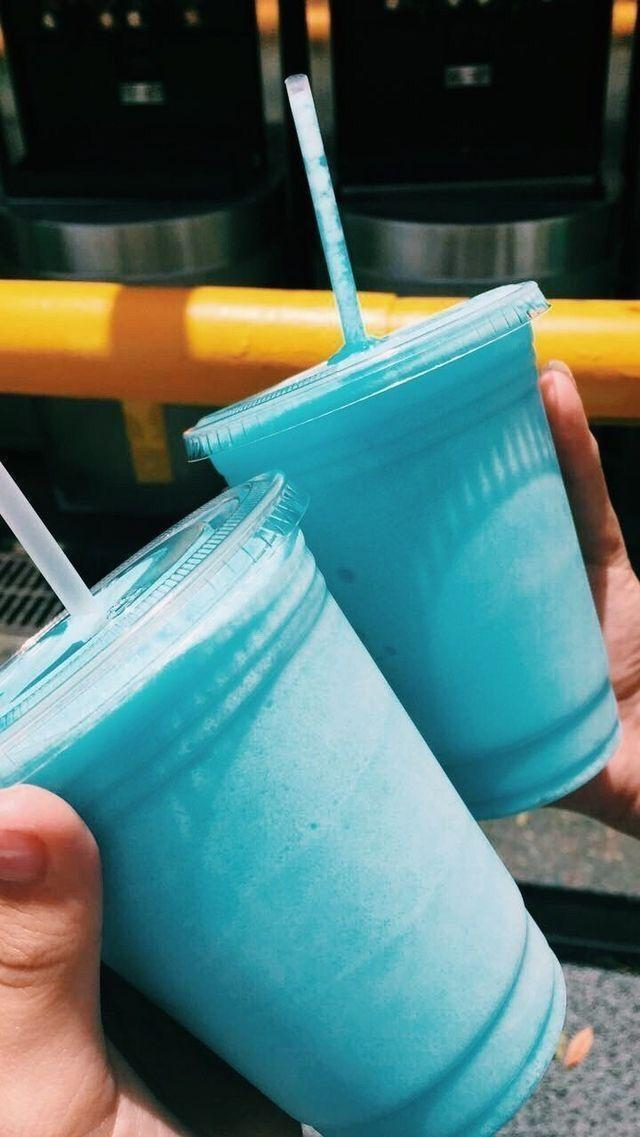cup-disposable: (1, 465, 571, 1136), (185, 282, 616, 823)
